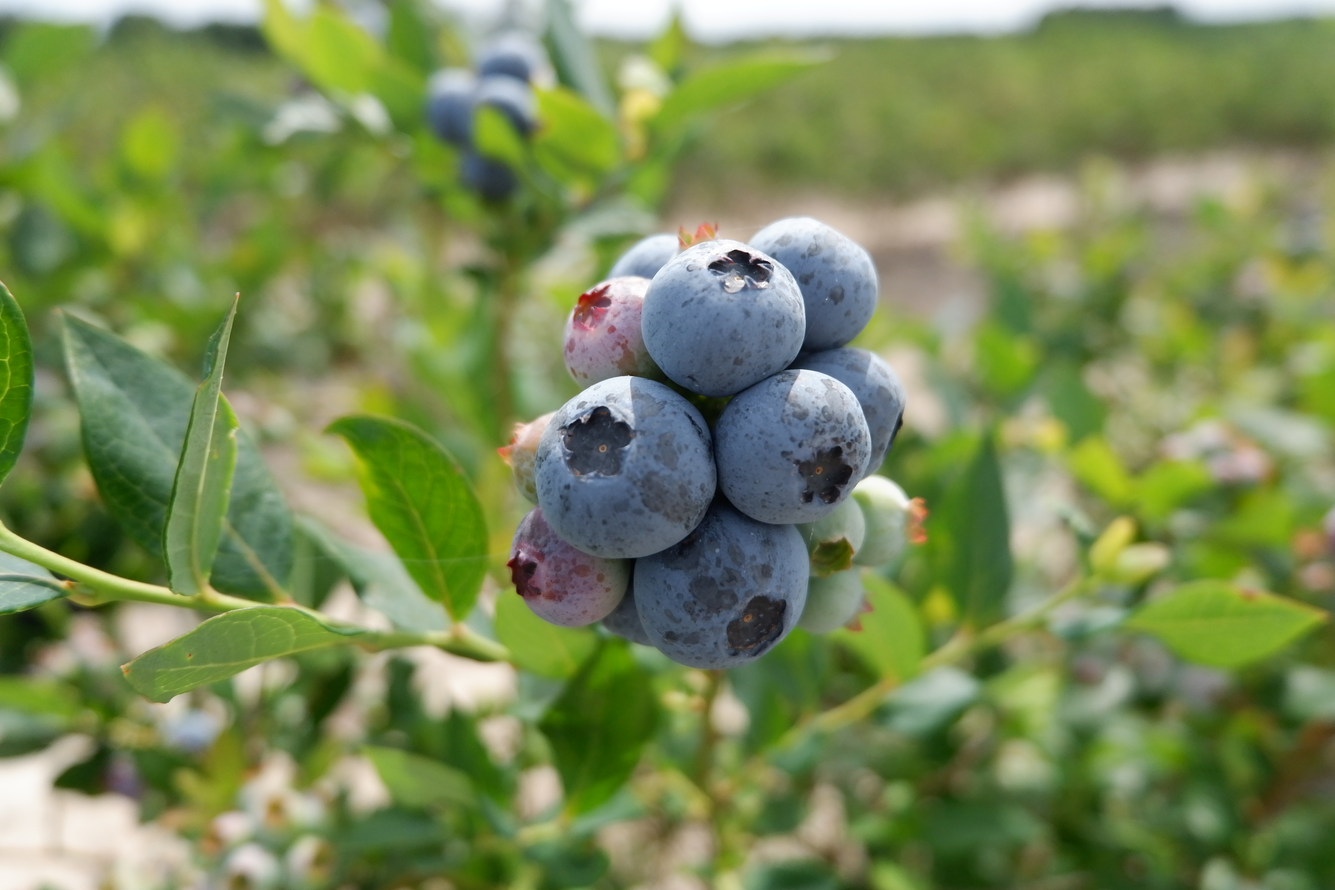Immature: (510, 509, 628, 625), (565, 281, 659, 386), (853, 476, 926, 567), (504, 409, 557, 505), (802, 569, 870, 632), (805, 498, 864, 567), (680, 224, 737, 250)
Mature: (537, 378, 714, 554), (636, 495, 808, 666), (647, 246, 803, 392), (720, 372, 870, 522), (751, 218, 875, 348), (803, 352, 904, 472), (606, 565, 653, 646), (609, 236, 680, 279)
